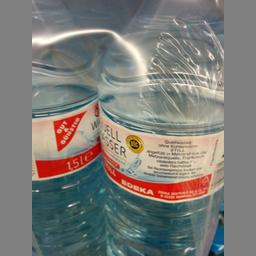water: (95, 0, 223, 255), (31, 0, 97, 255)
